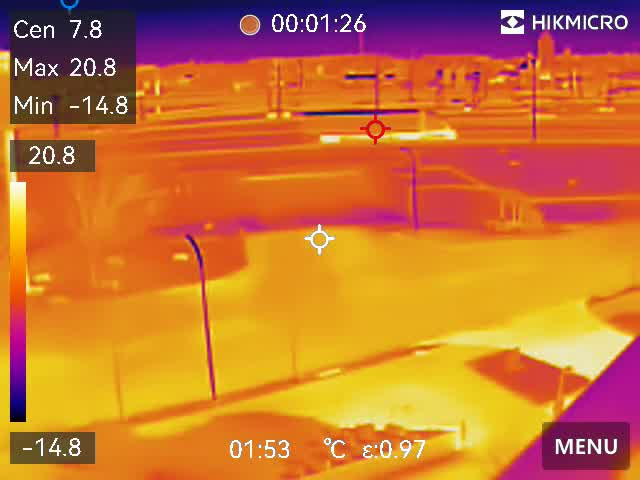heavyTruck: (295, 108, 457, 143)
vehicle: (523, 109, 563, 124), (590, 103, 619, 116)
